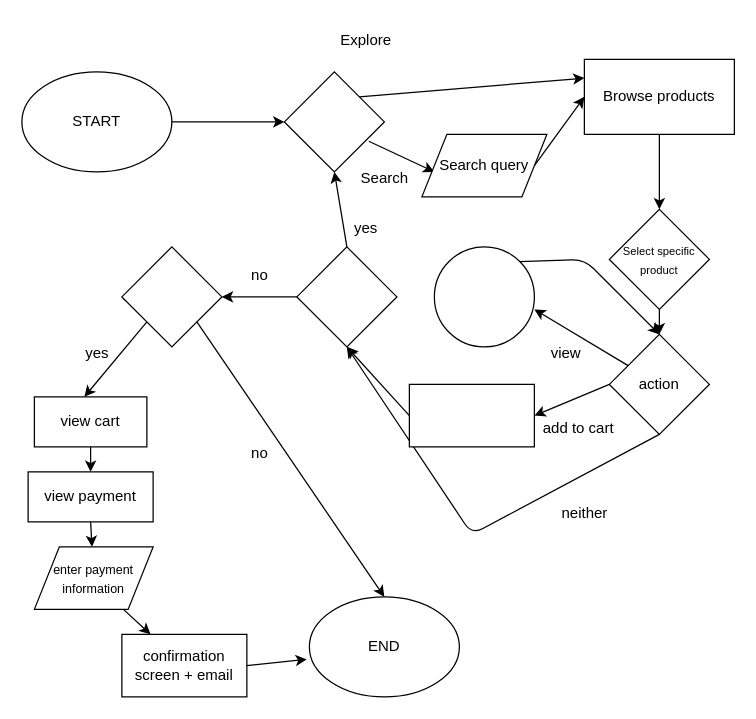
Image size: 756x719. Some labels were removed from this diagram. Each missing label, with the box of its shape:
added to cart confirmation: (408, 383, 534, 447)
checkout?: (121, 246, 222, 347)
continue shopping?: (296, 246, 397, 347)
open external product page: (433, 246, 534, 347)
Search or Explore: (283, 71, 384, 172)
